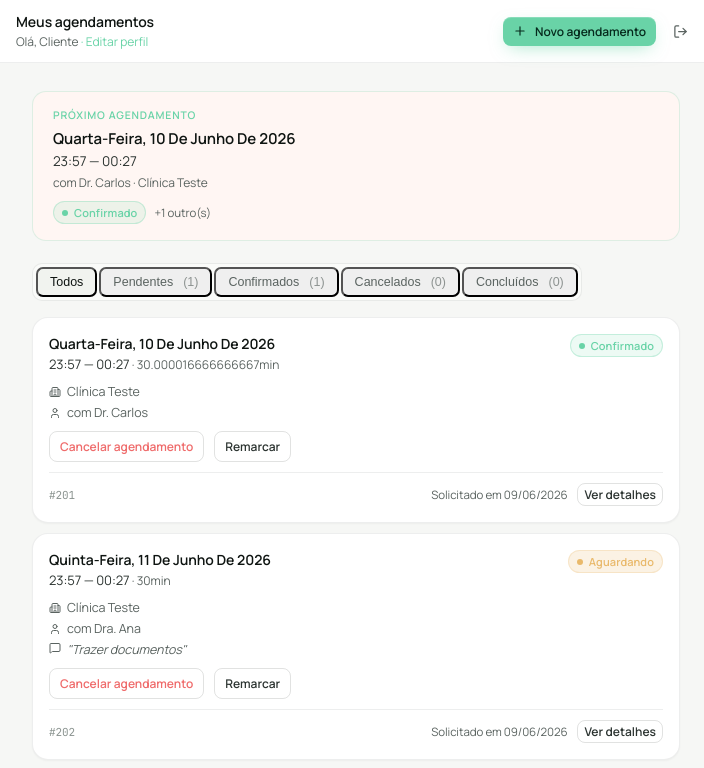
Scenario: MyAppointmentsPage — cancelamento › descarta a confirmação ao clicar em "Voltar"
This screenshot has width=704, height=768.
Click the button "Cancelar agendamento" below "30.000016666666667min" at (127, 447), box [49,431,204,462]
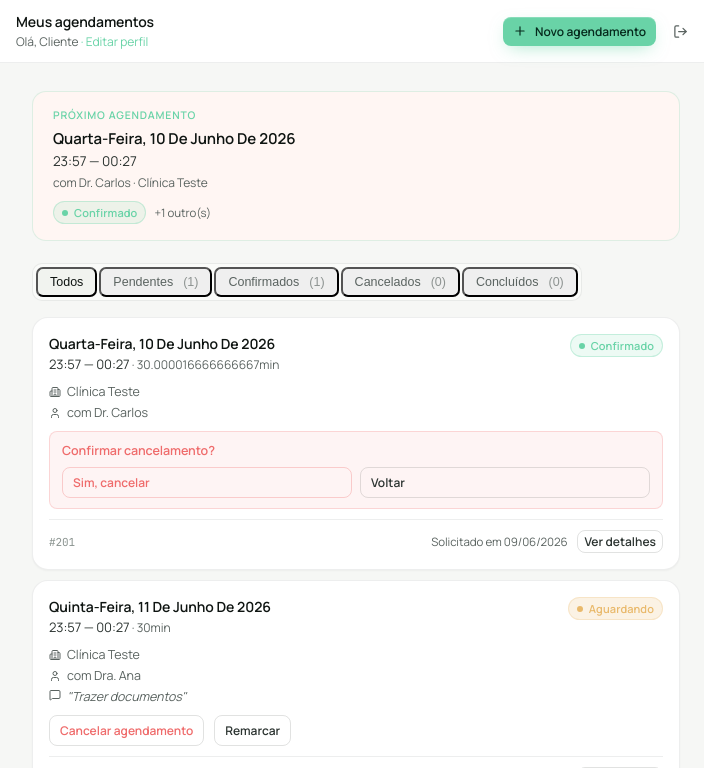
Expected: the text "Confirmar cancelamento?" is shown, [62,442,215,459]
Click the button "Voltar" at (388, 483), box [360,467,650,498]
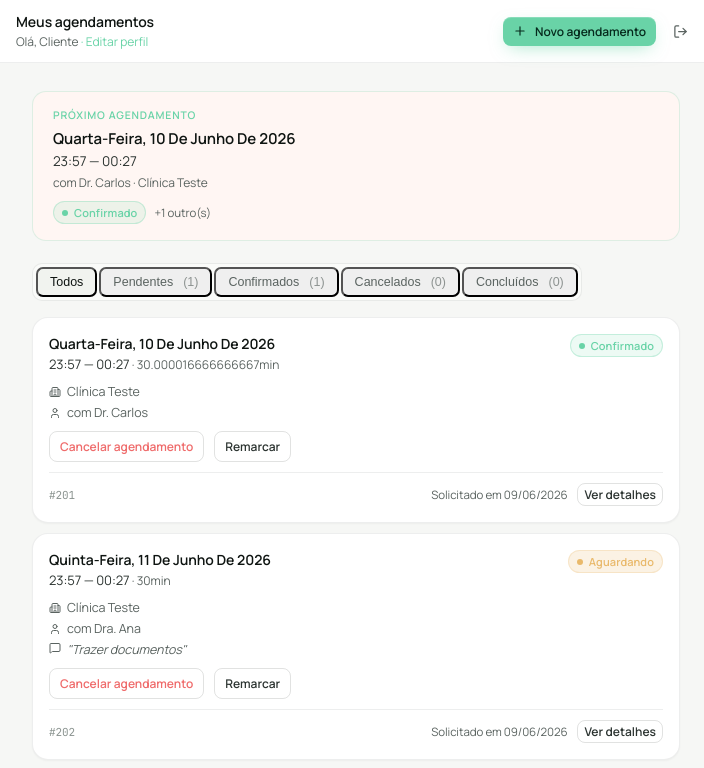
Expected: the text "Confirmar cancelamento?" is gone
